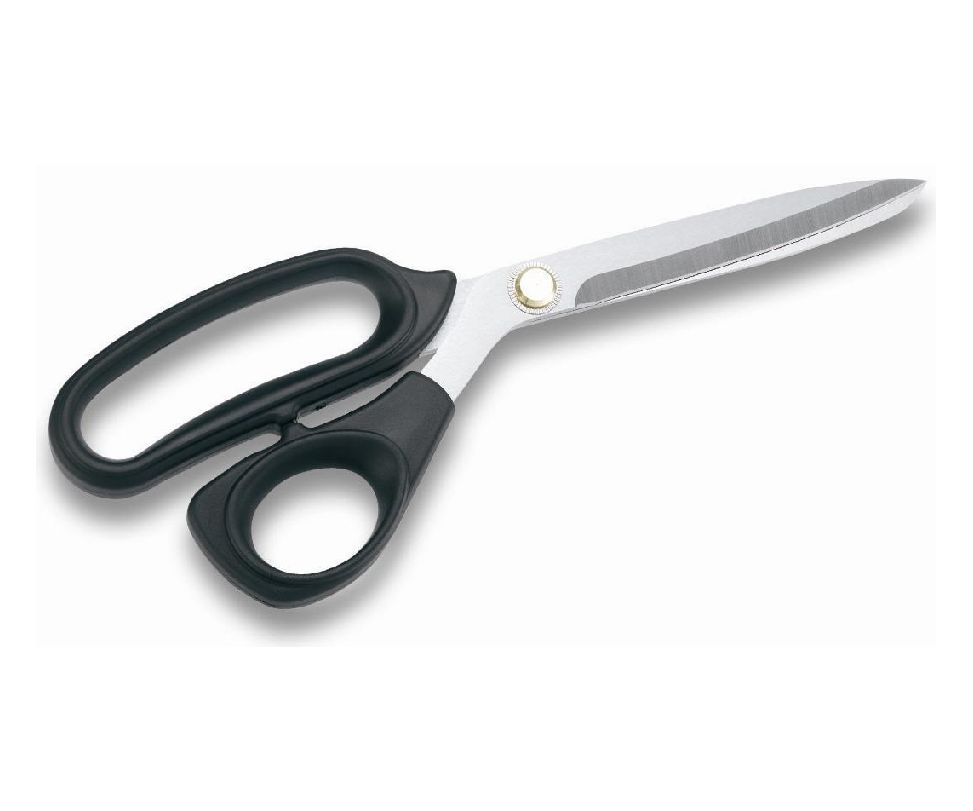scissors: (22, 174, 939, 608)
